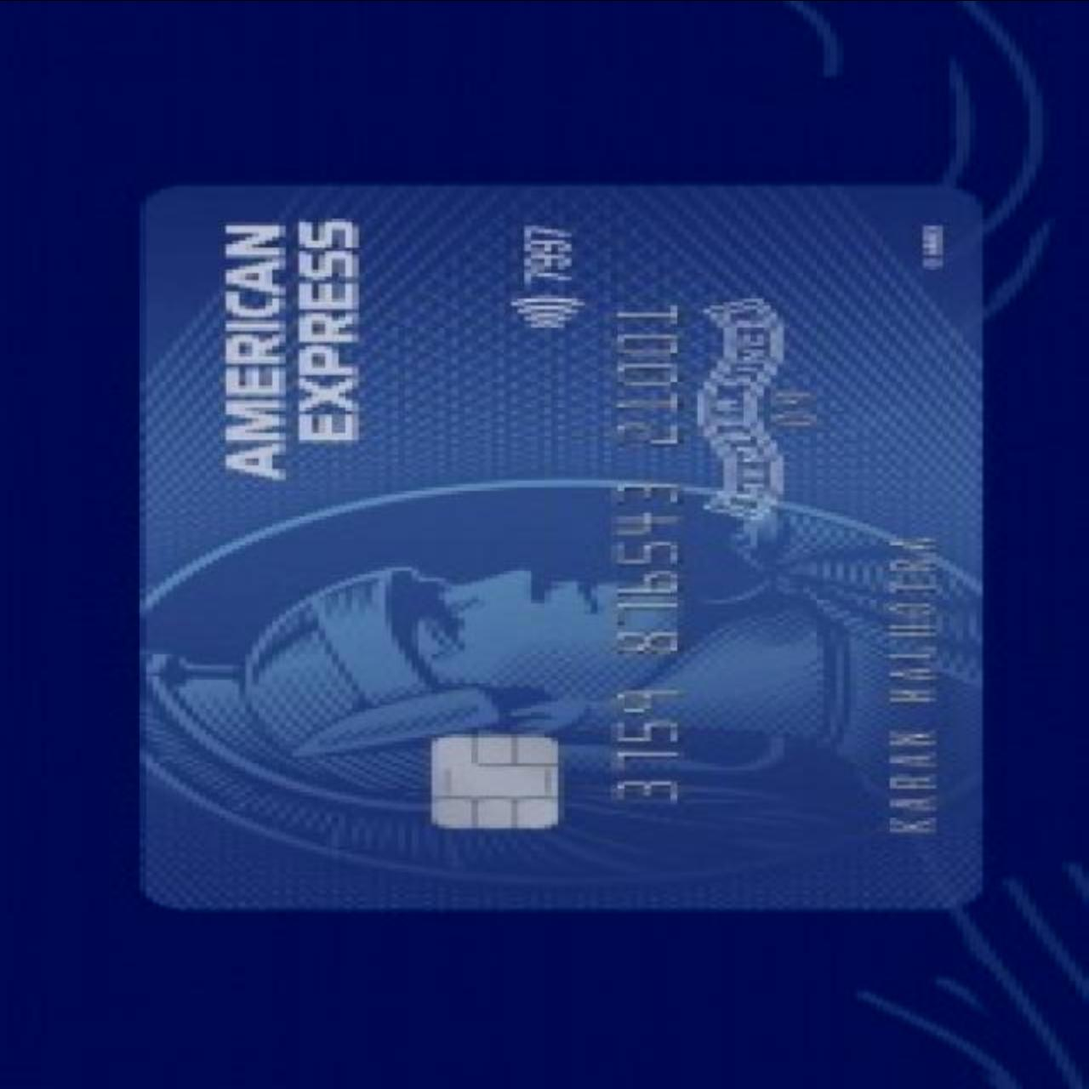credit_card: (129, 163, 1007, 936)
